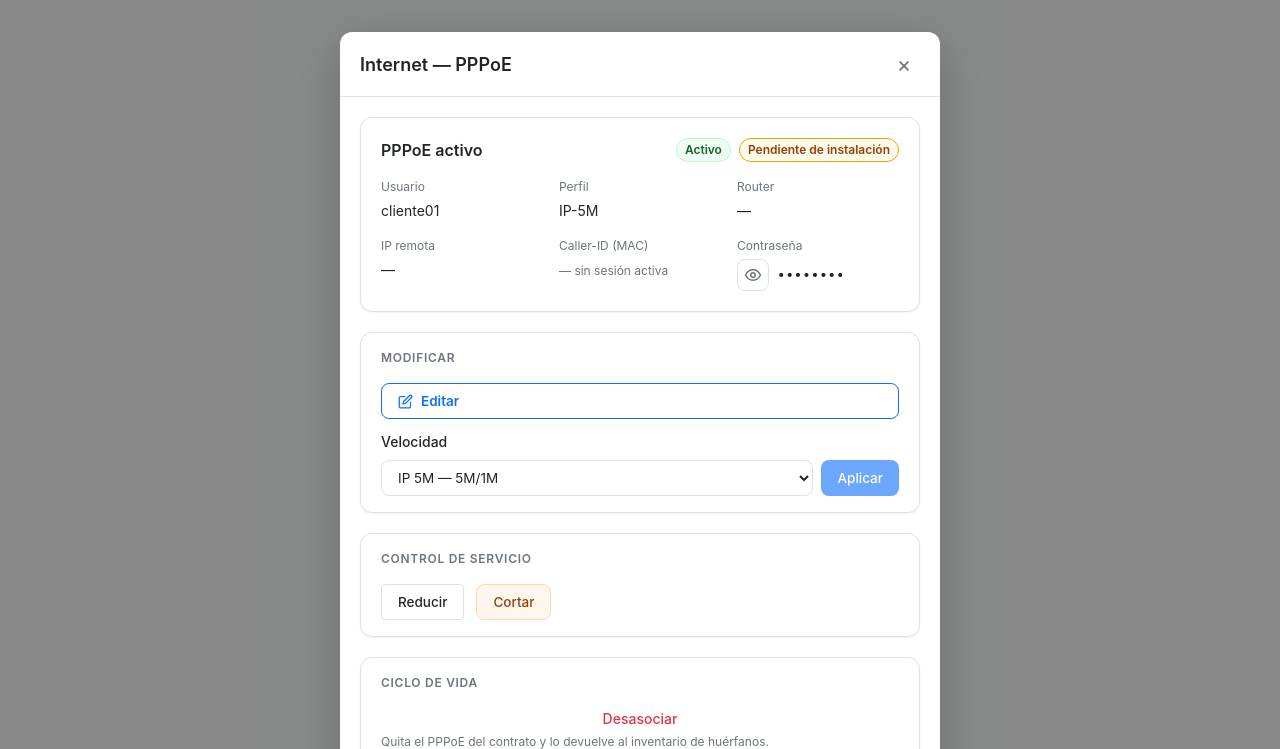
Test: W3: adopción manual (pendiente → elegir router en Editar) › 404 NO_POOL_FOR_NAS_TYPE del move → mensaje mapeado que nombra la clase faltante
The width and height of the screenshot is (1280, 749).
Click the button "Editar" at (440, 401), box [381, 383, 899, 419]
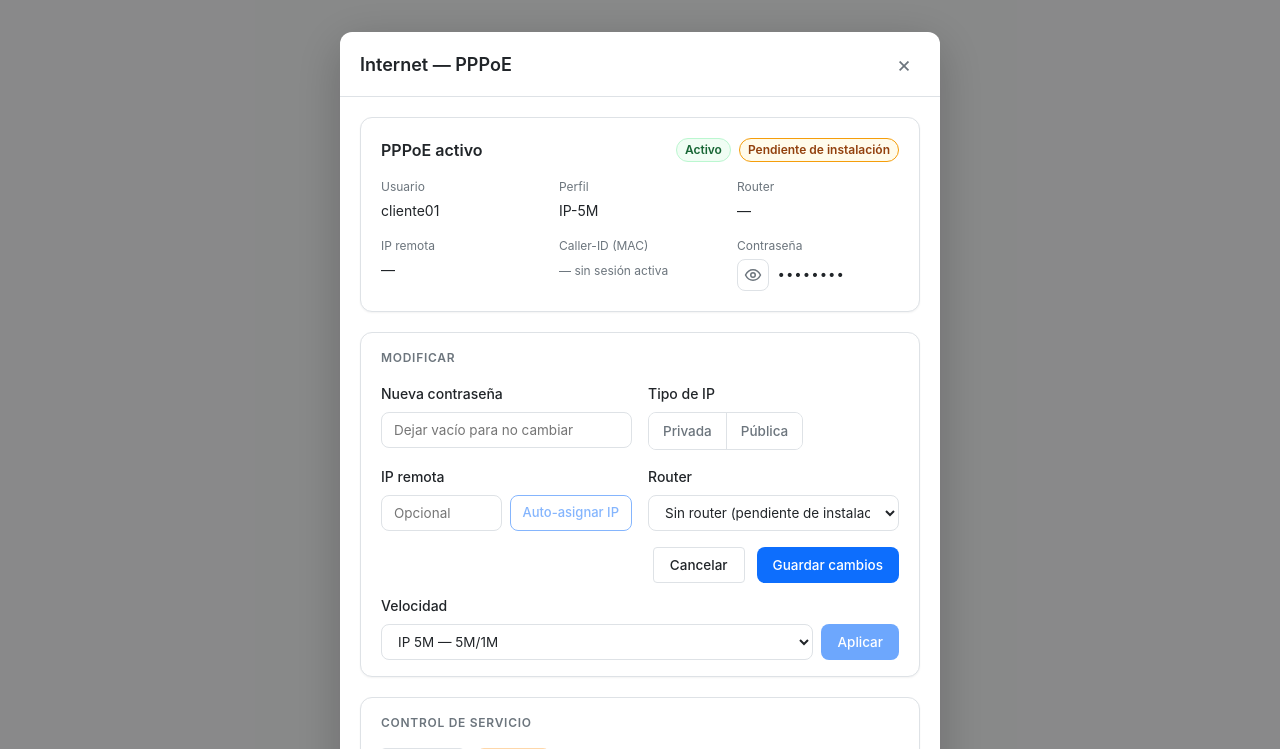
Select "Router Norte" in the dropdown labelled "Router" at (774, 513), box [648, 495, 899, 531]
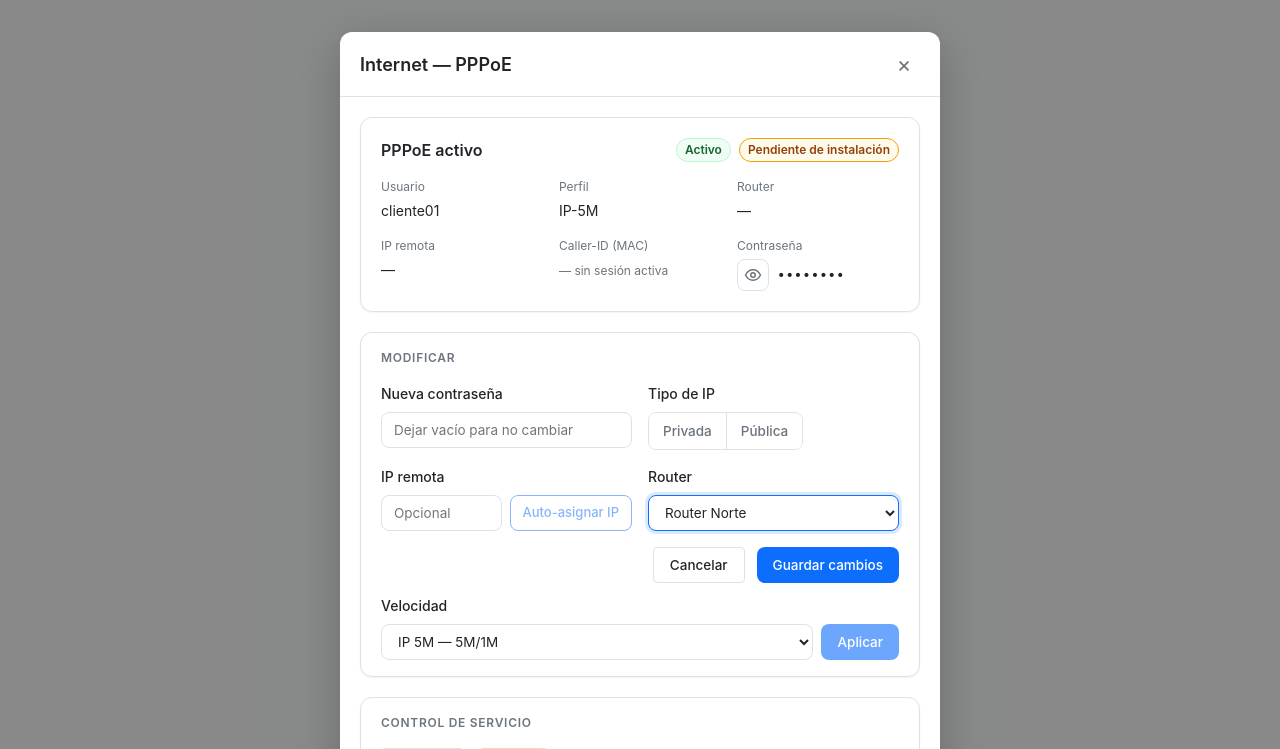
Click the button "Guardar cambios" at (828, 565), box [757, 547, 899, 583]
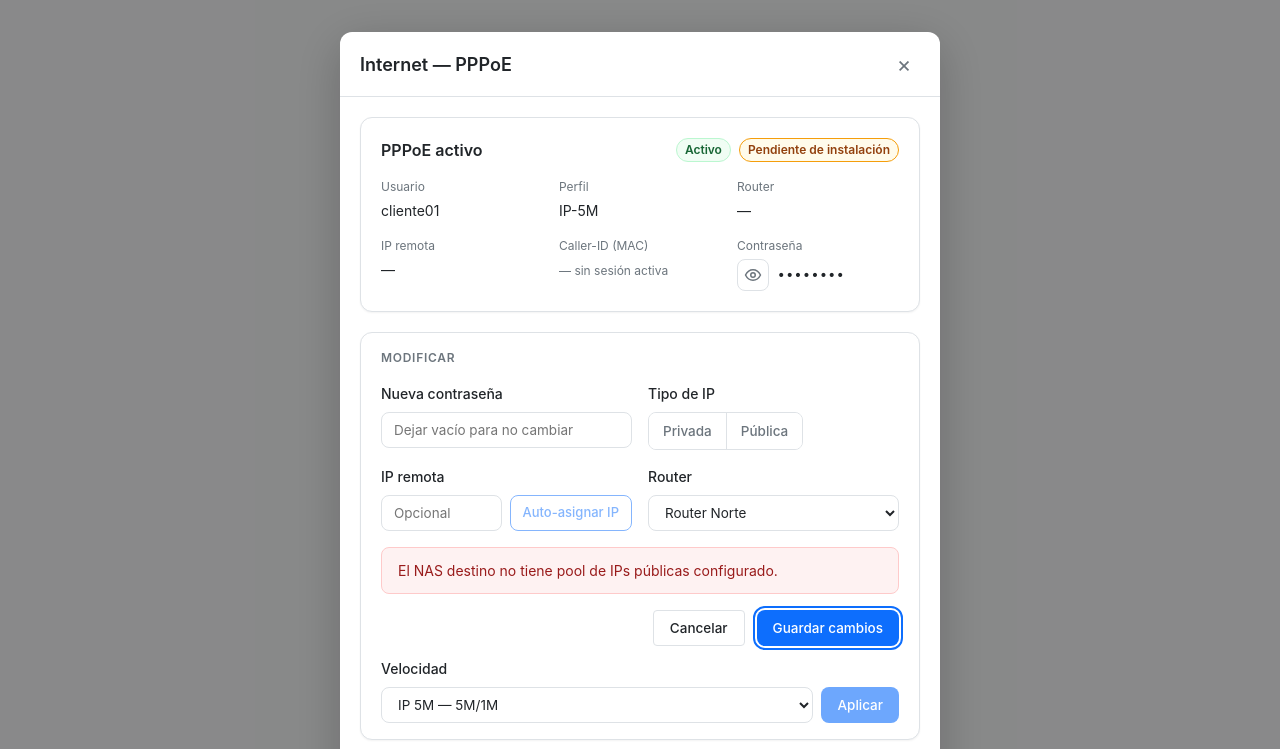
Check: the text "El NAS destino no tiene pool de IPs públicas configurado." is shown, box [398, 560, 778, 581]
